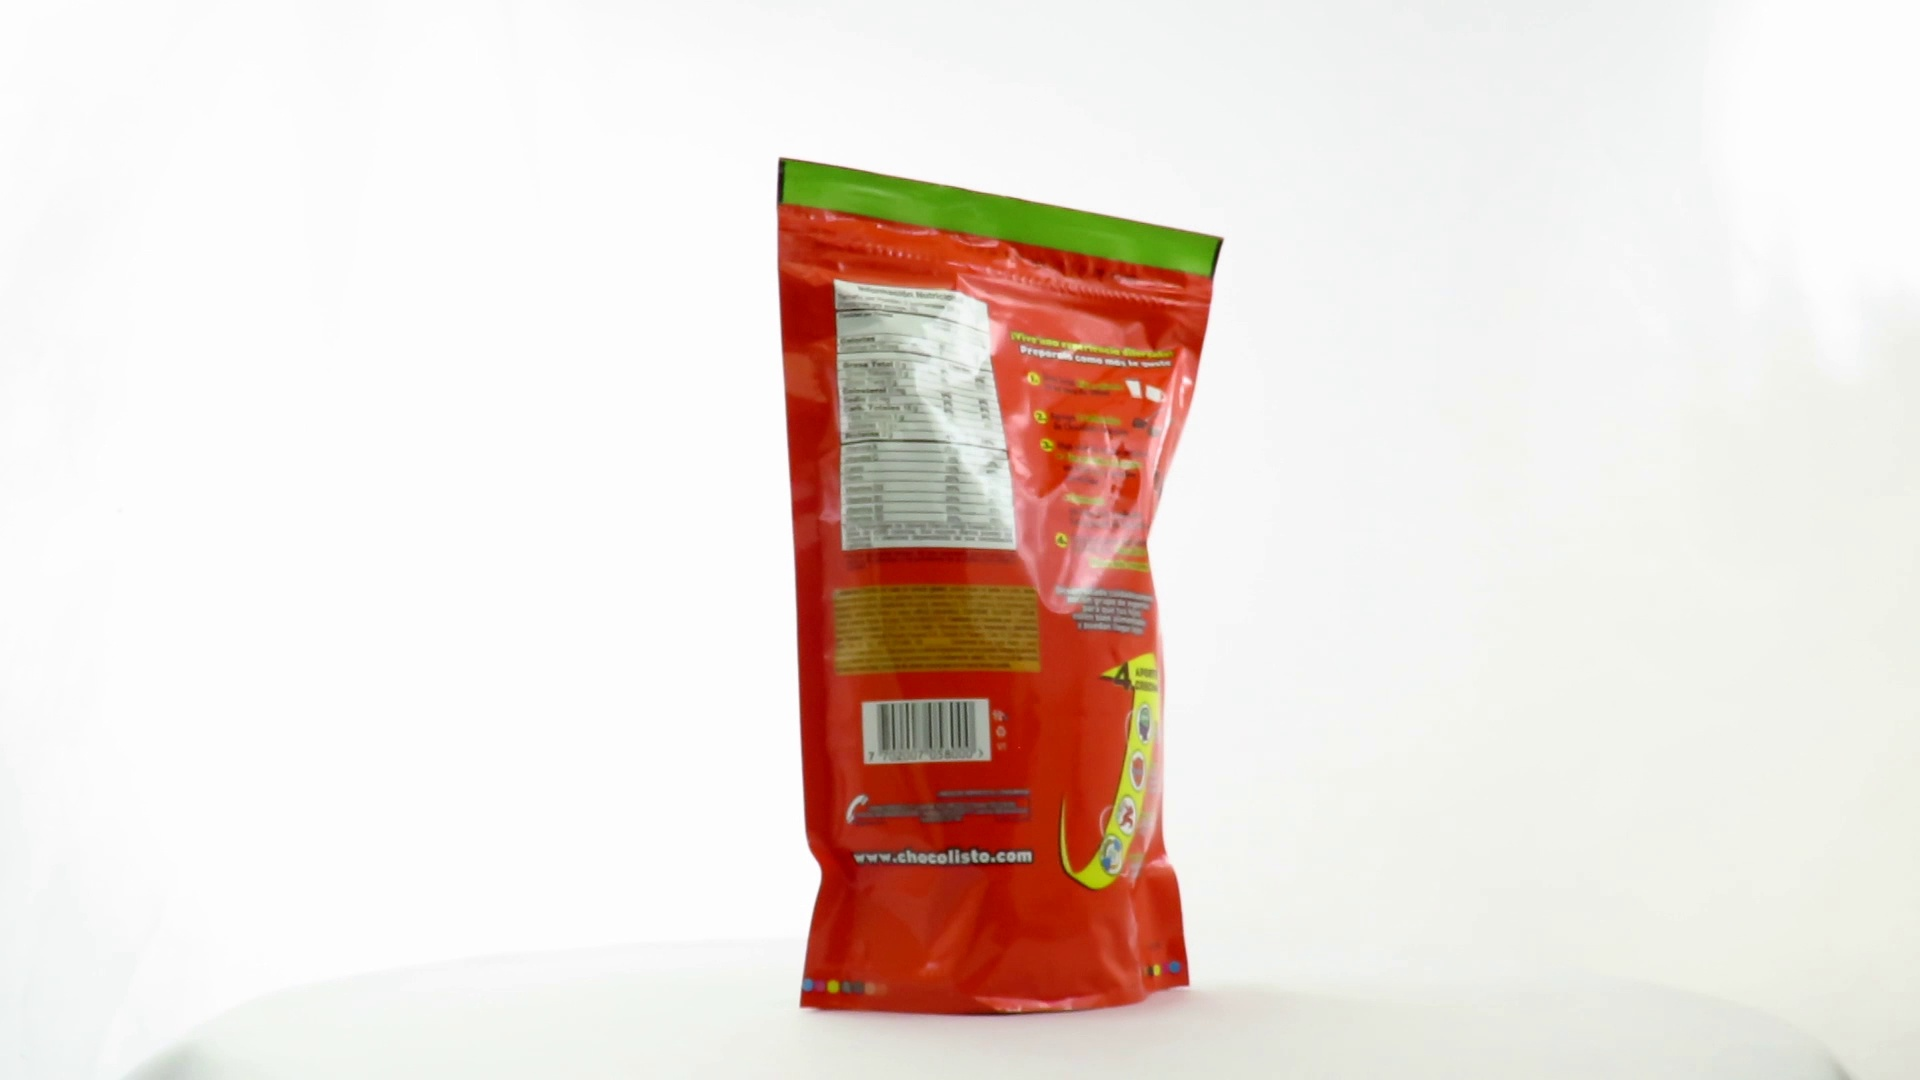COL0170102DYP50000: (771, 152, 1230, 1023)
